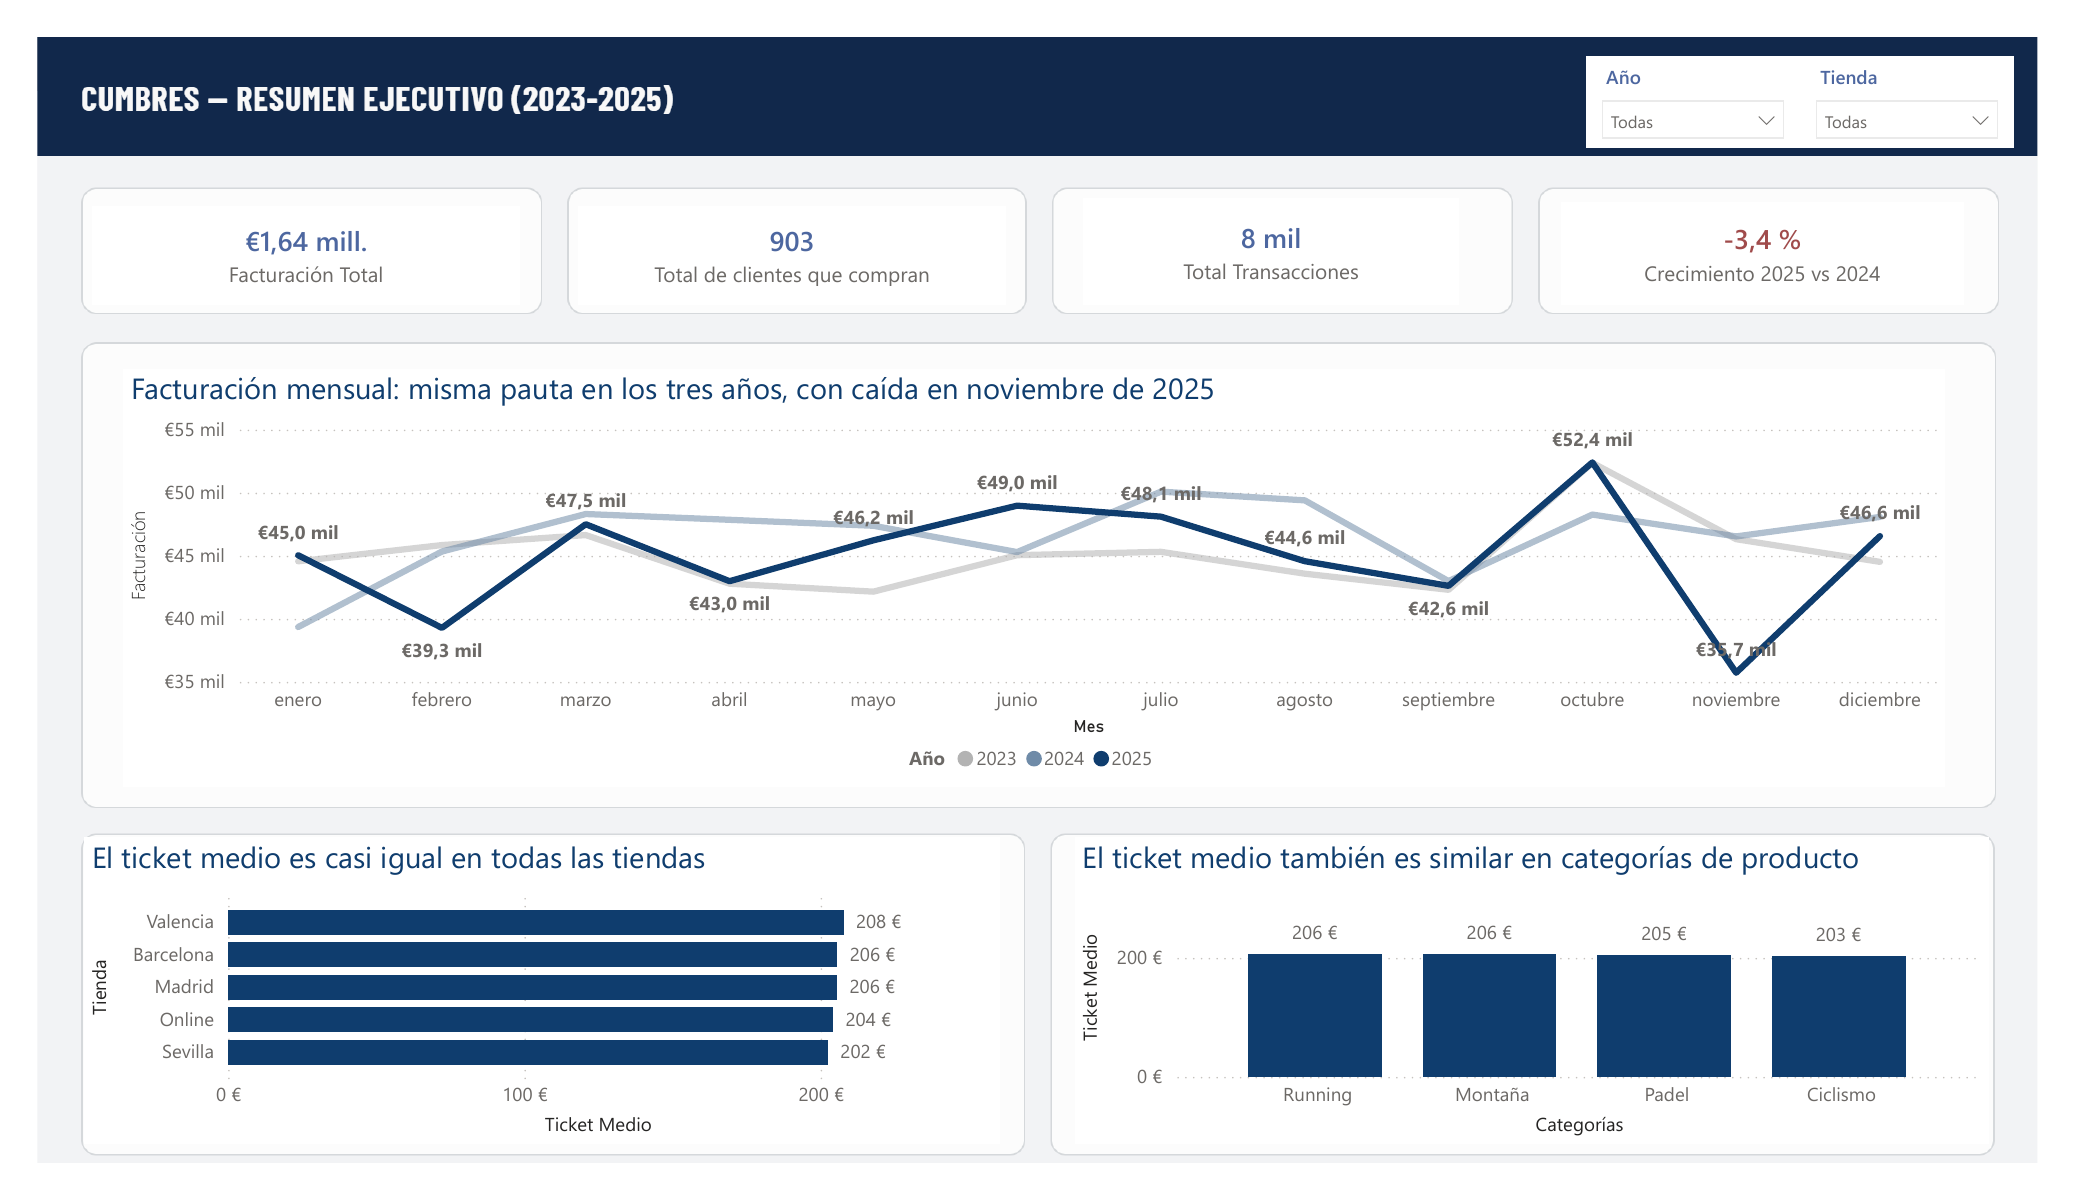

The page's visual inventory and layout, read from the dashboard file:
{"tool":"powerbi","page":{"name":"1. Resumen Ejectivo","canvas":[1280,720],"ordinal":1},"visuals":[{"type":"image","box":[0,0,1280,720.2],"z":0},{"type":"lineChart","title":"Facturación mensual: misma pauta en los tres años, con caída en noviembre de 2025","fields":{"Category":["Calendario.Mes_Nombre"],"Series":["Calendario.Año"],"Y":["Medidas.Revenue Total"]},"box":[55.5,212.3,1165.4,267.8],"z":1000},{"type":"cardVisual","fields":{"Data":["Medidas.Revenue Total"]},"box":[30.2,102.5,283.5,73.6],"z":2000},{"type":"cardVisual","fields":{"Data":["Medidas.Total Clientes"]},"box":[341.4,102.5,283.5,73.6],"z":3000},{"type":"cardVisual","fields":{"Data":["Medidas.Total Transacciones"]},"box":[663.7,98.1,251,77.9],"z":4000},{"type":"cardVisual","fields":{"Data":["Medidas.Crecimiento 2025 vs 2024"]},"box":[969.5,99.6,268.4,76.5],"z":5000},{"type":"slicer","fields":{"Values":["Calendario.Año"]},"box":[991.2,11.5,137.1,59.2],"z":6000},{"type":"slicer","fields":{"Values":["tiendas.Tienda"]},"box":[1128.2,11.5,137.1,59.2],"z":7000},{"type":"clusteredBarChart","title":"El ticket medio es casi igual en todas las tiendas","fields":{"Category":["tiendas.ciudad"],"Y":["Medidas.Ticket Medio"]},"box":[30.3,512.2,585.8,196.2],"z":8000},{"type":"clusteredColumnChart","title":"El ticket medio también es similar en categorías de producto","fields":{"Category":["productos.categoria"],"Y":["Medidas.Ticket Medio"]},"box":[663.7,512.2,585.8,196.2],"z":9000}]}

Visuals, with their boxes on the page's 1280x720 design canvas (x1, y1, x2, y2). These are canvas units, not pixel positions in the 2075x1200 screenshot, which may show the page scaled, cropped or inside an application window:
image: pyautogui.locateOnScreen(0, 0, 1280, 720)
"Facturación mensual: misma pauta en los tres años, con caída en noviembre de 2025" lineChart: pyautogui.locateOnScreen(56, 212, 1221, 480)
cardVisual - Medidas.Revenue Total: pyautogui.locateOnScreen(30, 102, 314, 176)
cardVisual - Medidas.Total Clientes: pyautogui.locateOnScreen(341, 102, 625, 176)
cardVisual - Medidas.Total Transacciones: pyautogui.locateOnScreen(664, 98, 915, 176)
cardVisual - Medidas.Crecimiento 2025 vs 2024: pyautogui.locateOnScreen(970, 100, 1238, 176)
slicer - Calendario.Año: pyautogui.locateOnScreen(991, 12, 1128, 71)
slicer - tiendas.Tienda: pyautogui.locateOnScreen(1128, 12, 1265, 71)
"El ticket medio es casi igual en todas las tiendas" clusteredBarChart: pyautogui.locateOnScreen(30, 512, 616, 708)
"El ticket medio también es similar en categorías de producto" clusteredColumnChart: pyautogui.locateOnScreen(664, 512, 1250, 708)
